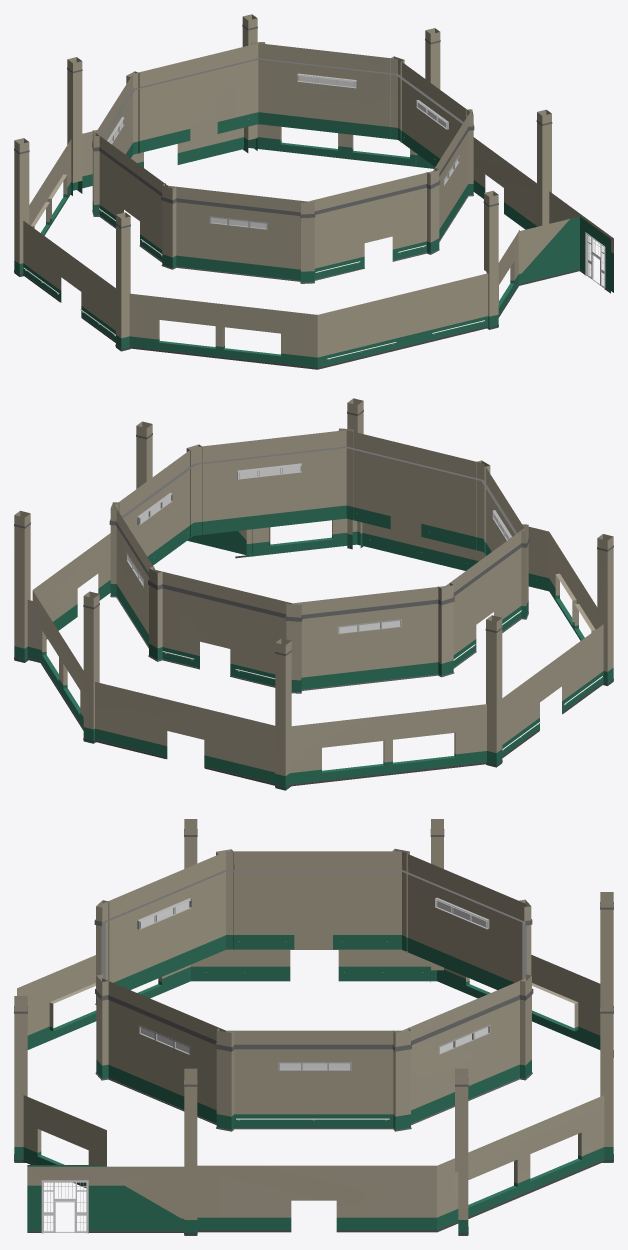
File: SM_H_Building_Tide_MedicalRoom_01_ATLAS.fbx
3 views of the same model, one above another, from view 1: azimuth 30°, elevation 25°; view 2: azimuth 150°, elevation 25°; view 3: azimuth 270°, elevation 25° (orthographic). The views are drawn at different scales.
Visible parts, largest first — view 1: SM_H_Building_Tide_MedicalRoom_01_ATLAS; view 2: SM_H_Building_Tide_MedicalRoom_01_ATLAS; view 3: SM_H_Building_Tide_MedicalRoom_01_ATLAS.
Part boxes in pixels (x1,y1,x2,y2): SM_H_Building_Tide_MedicalRoom_01_ATLAS: (14, 14, 613, 369); SM_H_Building_Tide_MedicalRoom_01_ATLAS: (14, 398, 613, 790); SM_H_Building_Tide_MedicalRoom_01_ATLAS: (14, 819, 613, 1235).
Bounding box in the file's own units: 4534 × 4497 × 1382.
